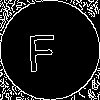F: (25, 25, 58, 72)
